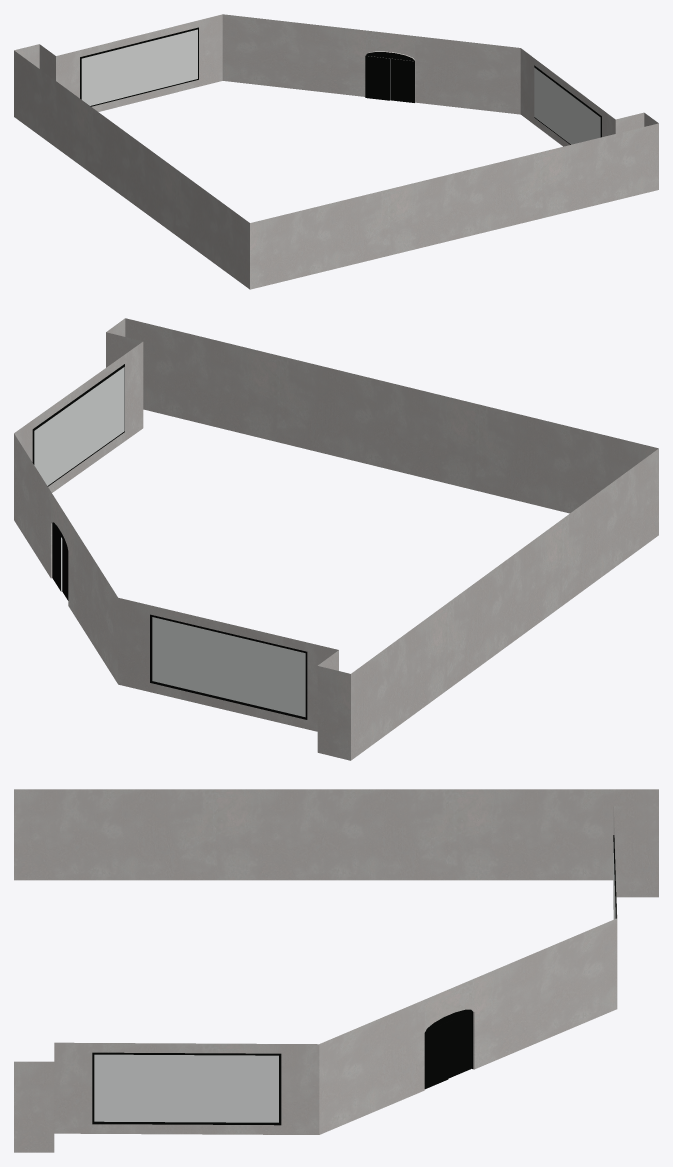
Rendered from PlantaBaja.fbx.
The picture shows the model from 3 angles, top to bottom: view 1: azimuth 30°, elevation 25°; view 2: azimuth 150°, elevation 25°; view 3: azimuth 270°, elevation 25°; orthographic projection. The views are drawn at different scales.
Visible parts, largest first — view 1: building_019; view 2: building_019; view 3: building_019.
Boxes of the visible parts, box(x1,y1,x2,y2) form: building_019: box(14, 14, 658, 289); building_019: box(14, 318, 658, 760); building_019: box(14, 789, 658, 1152).
Size of the model in its own units: 3000 by 467 by 3000.
2 materials, 2 textured.
